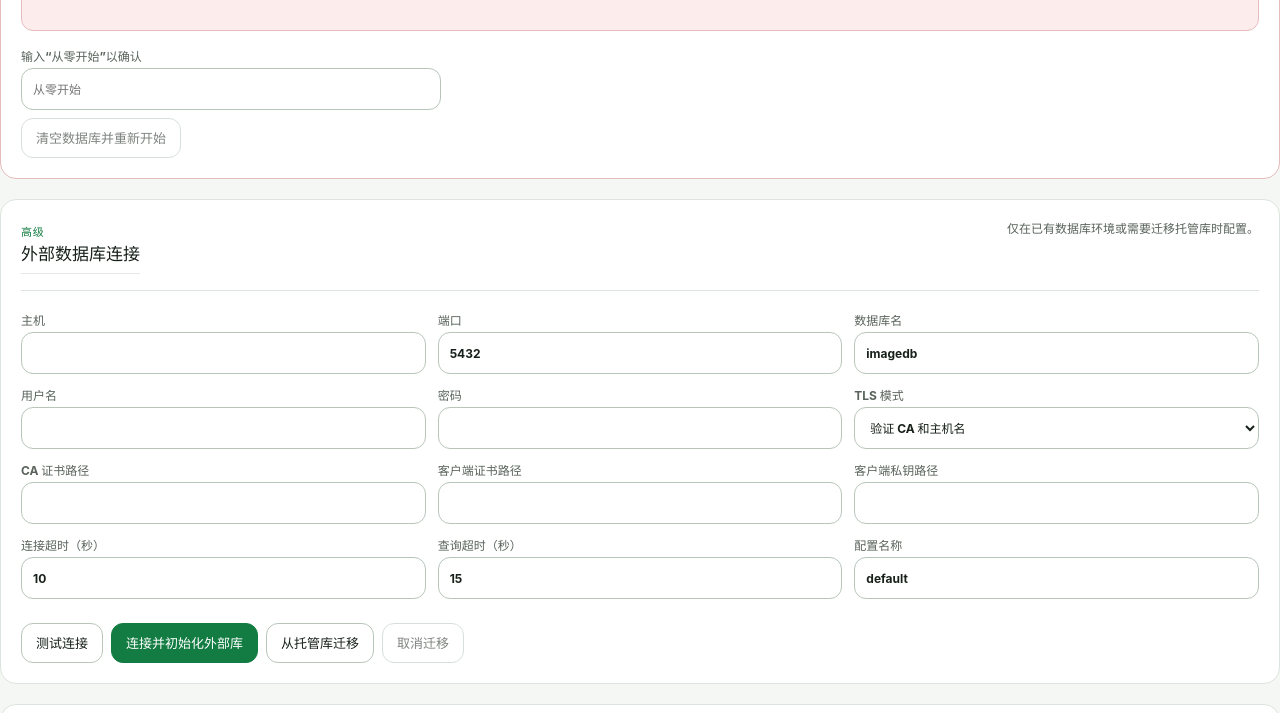
Test case: SettingsPage external PostgreSQL GUI › initializes an external database directly from settings
The image size is (1280, 713).
(page scrolled)
Expected: the button "连接并初始化外部库" is enabled, [111,623,258,663]
Type "192.168.31.25" into the field labelled "主机" at [223, 353], box [21,332,426,374]
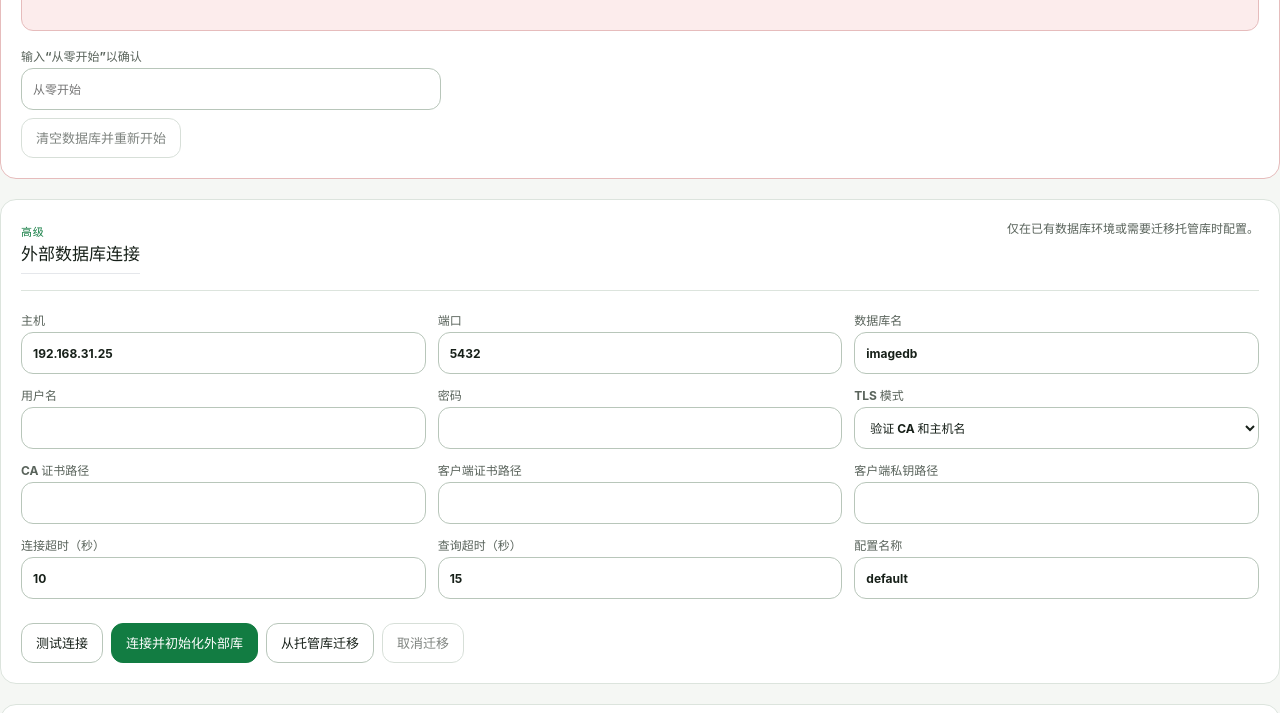
Replace the text in the number field labelled "端口" with "35973" at [640, 353], box [438,332,842,374]
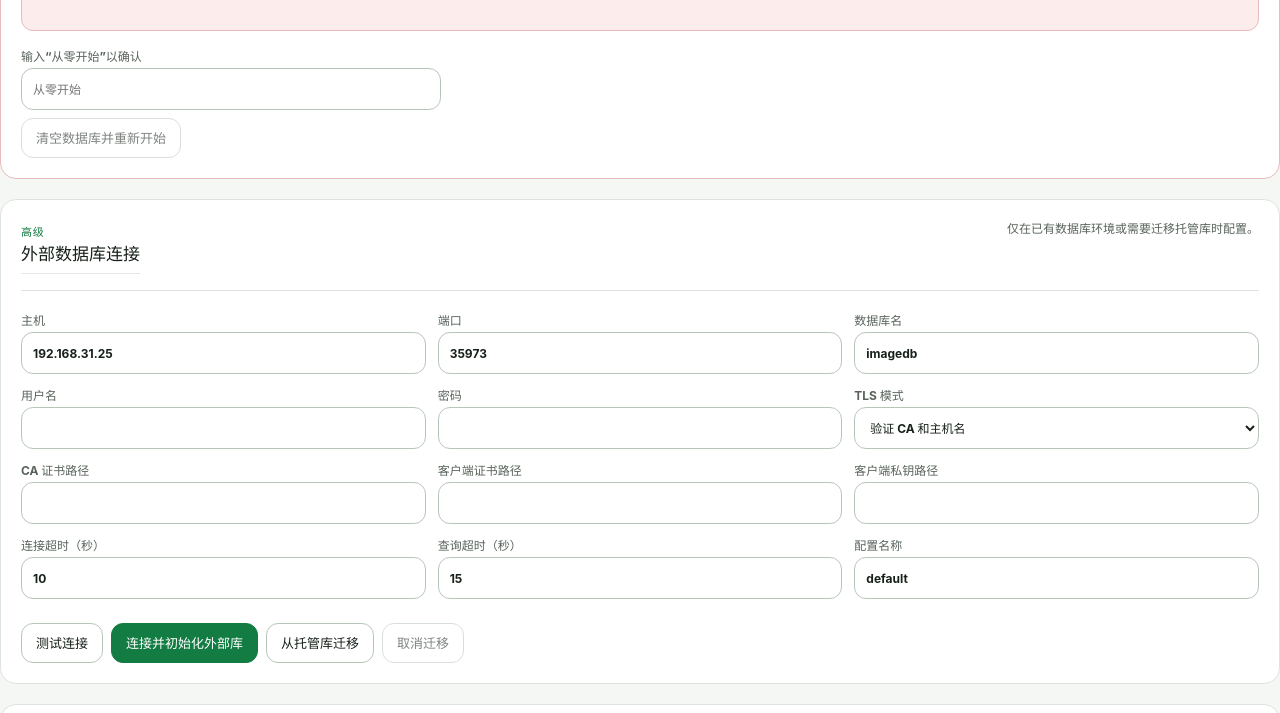
Replace the text in the field labelled "数据库名" with "image_db" at [1057, 353], box [854,332,1259,374]
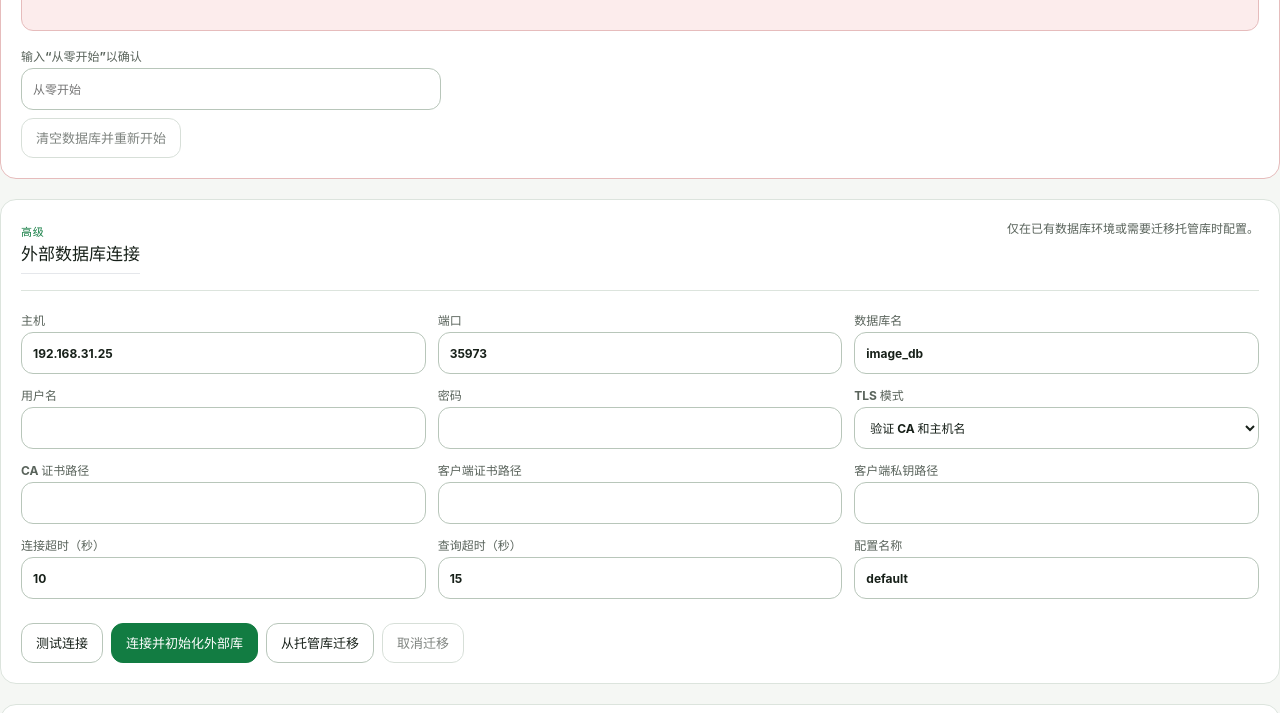
Type "helw" into the field labelled "用户名" at [223, 428], box [21,407,426,449]
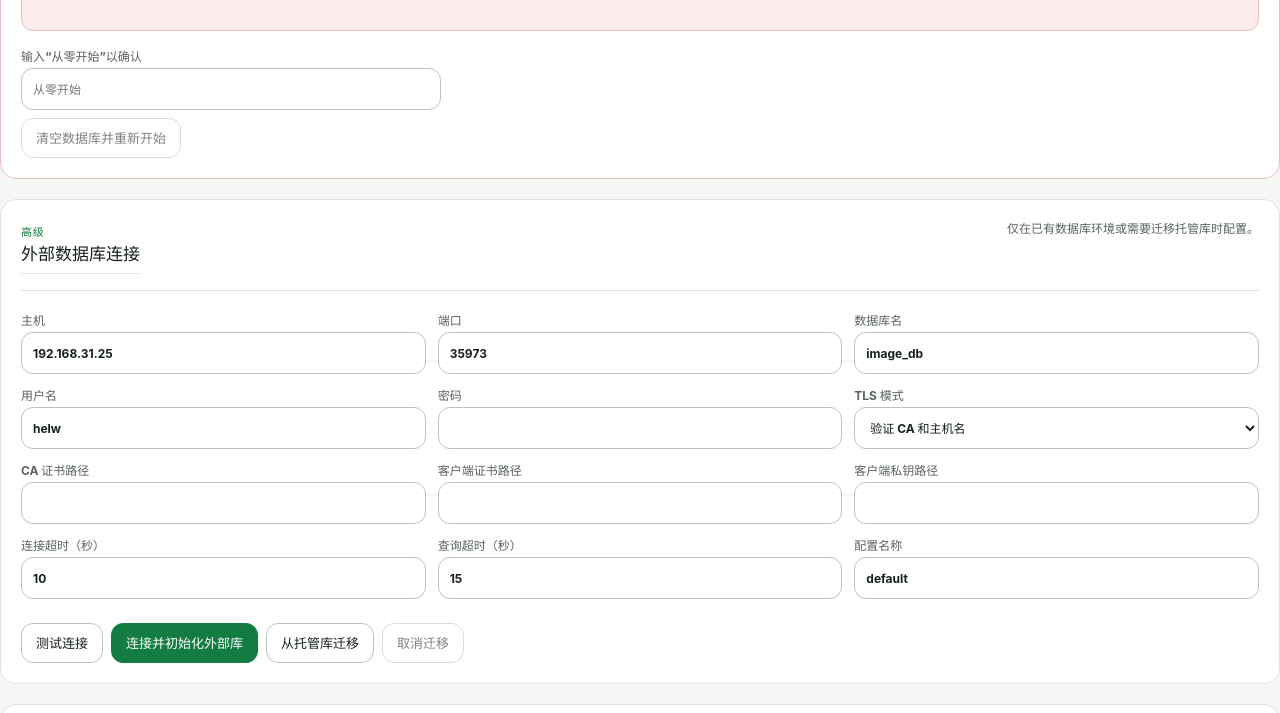
Type "secret" into the password field labelled "密码" at [640, 428], box [438,407,842,449]
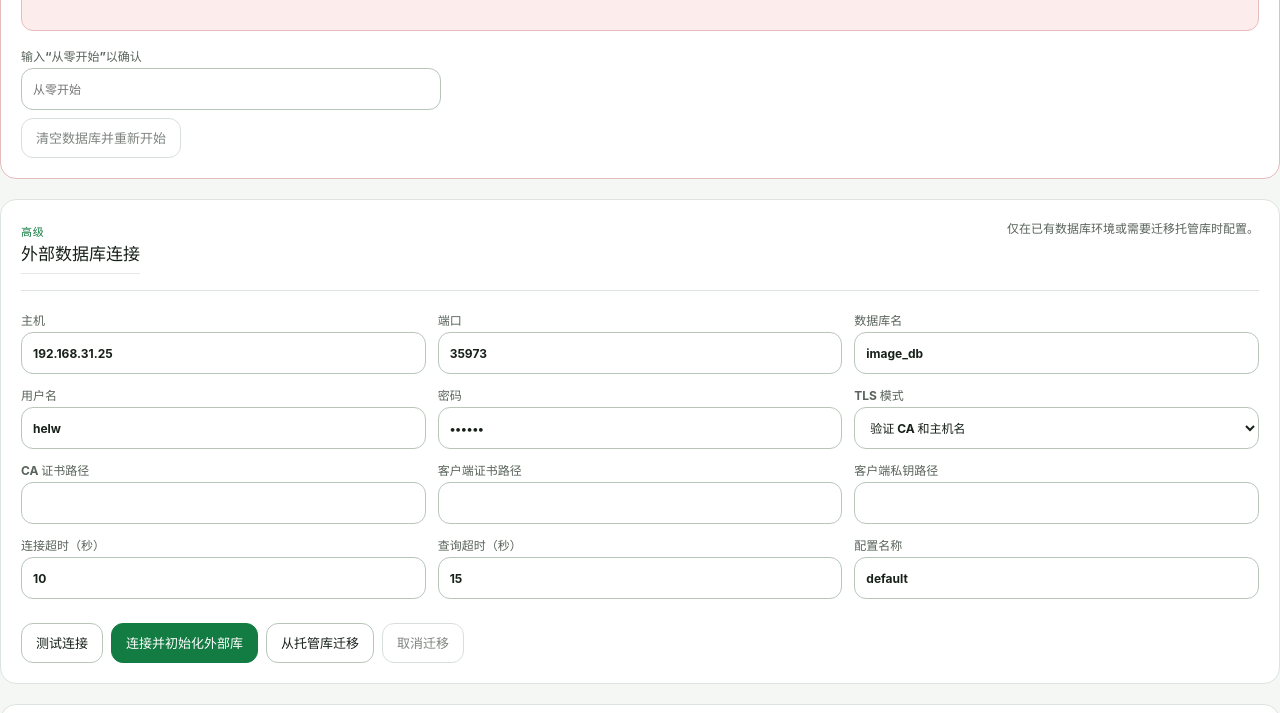
Click the button "连接并初始化外部库" at [184, 643], box [111,623,258,663]
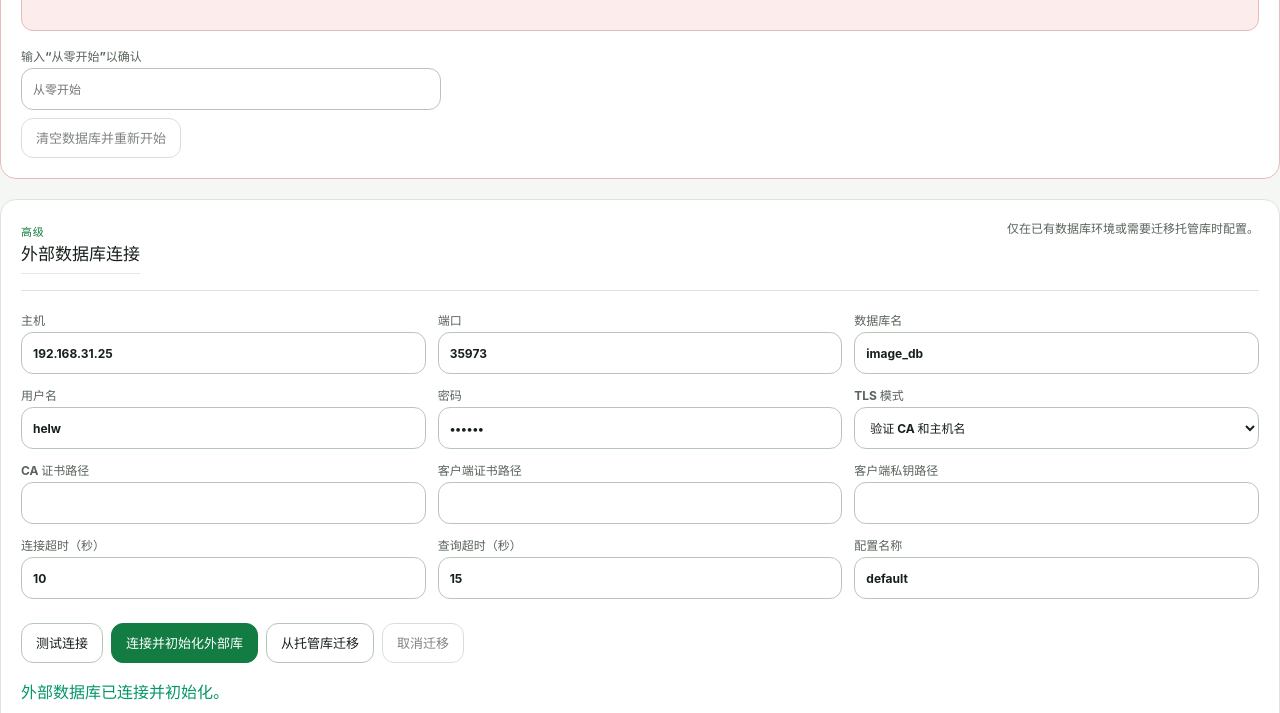
Now the text "外部数据库已连接并初始化。" is shown, box [21,682,229,702]
